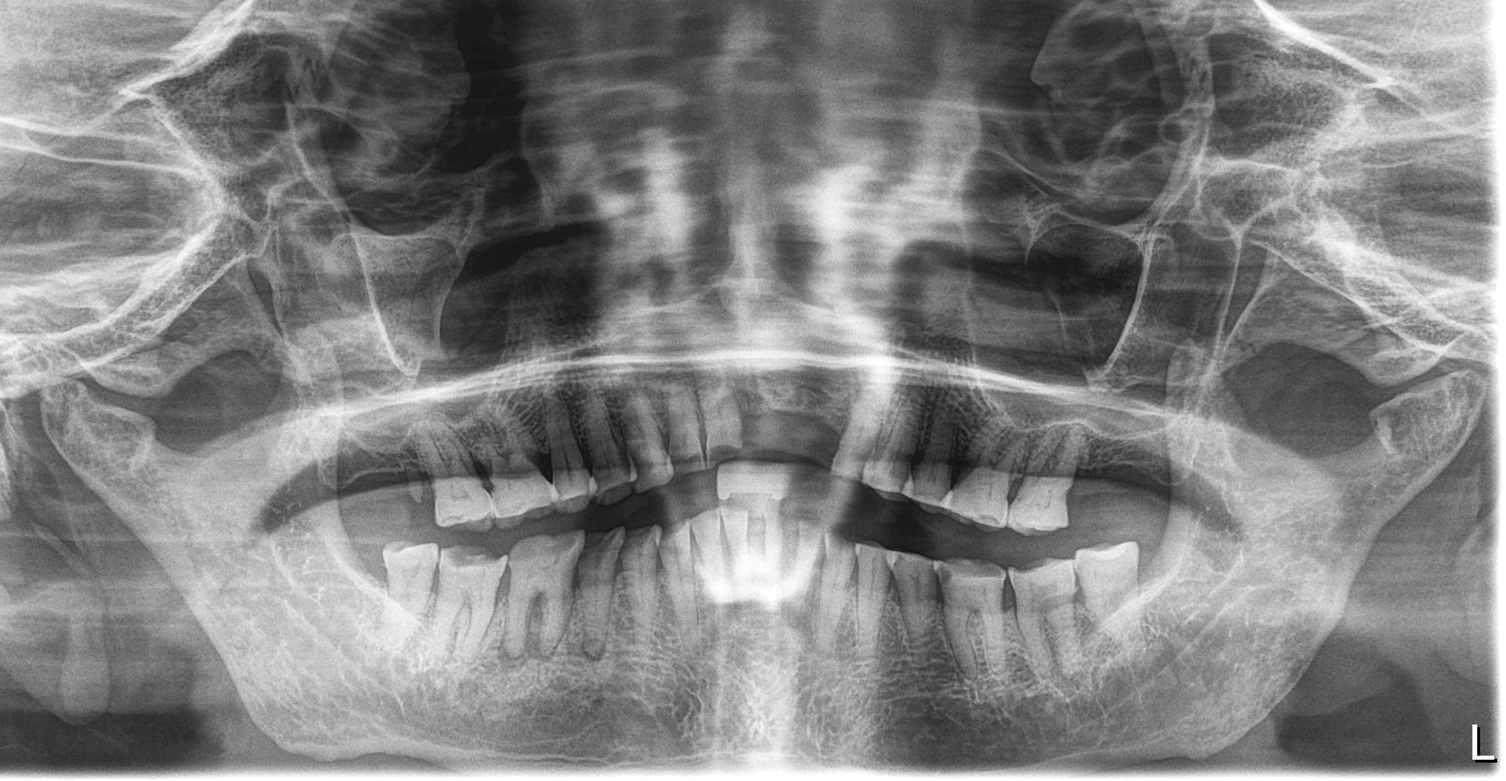Attrition: (818, 536, 1077, 615), (445, 516, 688, 590)
Dental Caries: (706, 441, 749, 464)
Missing Tooth: (1079, 433, 1176, 543), (750, 369, 839, 485), (342, 435, 430, 535)
Periapical Lesion: (482, 621, 626, 667)
